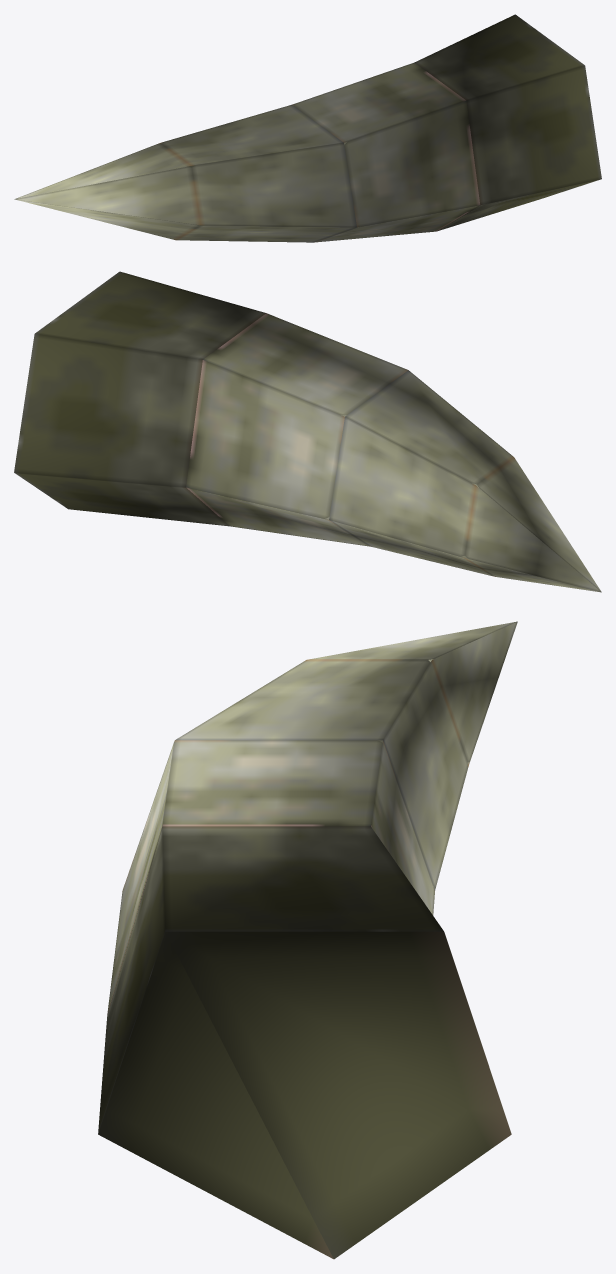
3 views of the same model, one above another, from view 1: azimuth 30°, elevation 25°; view 2: azimuth 150°, elevation 25°; view 3: azimuth 270°, elevation 25° (orthographic). The views are drawn at different scales.
Visible parts, largest first — view 1: T1L5M004_22; view 2: T1L5M004_22; view 3: T1L5M004_22.
Part boxes in pixels (x1=…): T1L5M004_22: x1=14, y1=14, x2=601, y2=242; T1L5M004_22: x1=14, y1=271, x2=601, y2=592; T1L5M004_22: x1=98, y1=621, x2=517, y2=1259.
Size of the model in its own units: 0.3555 by 0.1152 by 0.1338.
